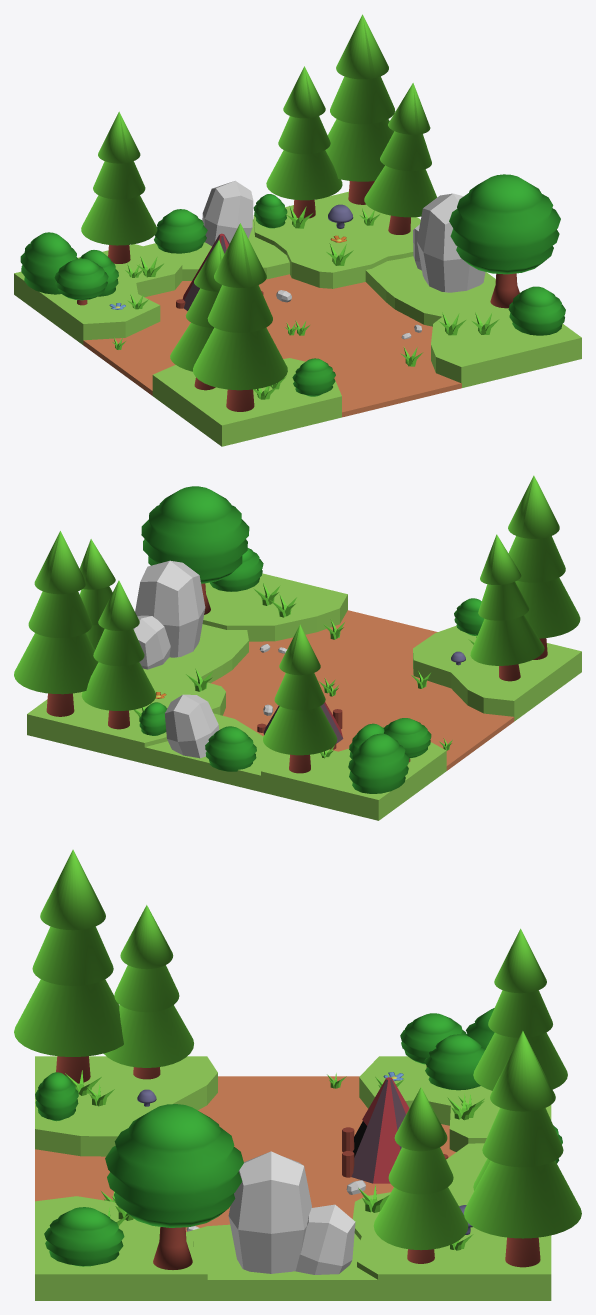
File: jungle level set - 2 Way (4).fbx
The picture shows the model from 3 angles, top to bottom: view 1: azimuth 30°, elevation 25°; view 2: azimuth 150°, elevation 25°; view 3: azimuth 270°, elevation 25°; orthographic projection. The views are drawn at different scales.
Visible parts, largest first — view 1: land_platform, tree_006, tree_003, tree_001, tree_007, tree, tree_002, stone, tree_005, stone_004, bush_003, bush (+6 smaller); view 2: land_platform, tree_001, tree_003, tree_006, tree_007, tree, tree_005, stone, bush_003, stone_004, tree_002, bush_005 (+7 smaller); view 3: land_platform, tree_001, tree_003, tree_006, tree_002, tree_005, stone, tree_007, camp, bush, stone_001, bush_001 (+3 smaller).
Boxes of the visible parts, left/top/right/bottom form: land_platform: left=14, top=191, right=581, bottom=446; tree_006: left=193, top=223, right=287, bottom=411; tree_003: left=449, top=174, right=560, bottom=308; tree_001: left=325, top=14, right=395, bottom=204; tree_007: left=81, top=111, right=157, bottom=263; tree: left=266, top=66, right=342, bottom=218; tree_002: left=364, top=83, right=436, bottom=234; stone: left=417, top=193, right=485, bottom=292; tree_005: left=170, top=240, right=224, bottom=390; stone_004: left=202, top=180, right=253, bottom=246; bush_003: left=20, top=232, right=77, bottom=294; bush: left=508, top=286, right=565, bottom=335; land_platform: left=27, top=573, right=581, bottom=820; tree_001: left=14, top=531, right=98, bottom=716; tree_003: left=141, top=486, right=249, bottom=614; tree_006: left=508, top=475, right=580, bottom=659; tree_007: left=263, top=624, right=337, bottom=773; tree: left=81, top=580, right=155, bottom=729; tree_005: left=470, top=534, right=544, bottom=681; stone: left=135, top=560, right=205, bottom=657; bush_003: left=348, top=733, right=409, bottom=793; stone_004: left=164, top=694, right=219, bottom=758; tree_002: left=79, top=539, right=115, bottom=649; bush_005: left=205, top=726, right=256, bottom=771; land_platform: left=35, top=1056, right=551, bottom=1300; tree_001: left=464, top=1031, right=581, bottom=1267; tree_003: left=105, top=1104, right=243, bottom=1269; tree_006: left=14, top=849, right=123, bottom=1083; tree_002: left=373, top=1087, right=468, bottom=1263; tree_005: left=103, top=905, right=193, bottom=1079; stone: left=228, top=1151, right=312, bottom=1273; tree_007: left=473, top=928, right=567, bottom=1090; camp: left=342, top=1077, right=448, bottom=1183; bush: left=44, top=1207, right=124, bottom=1266; stone_001: left=294, top=1204, right=355, bottom=1274; bush_001: left=424, top=1034, right=485, bottom=1090.
Size of the model in its own units: 16.66 by 8.75 by 16.7.
